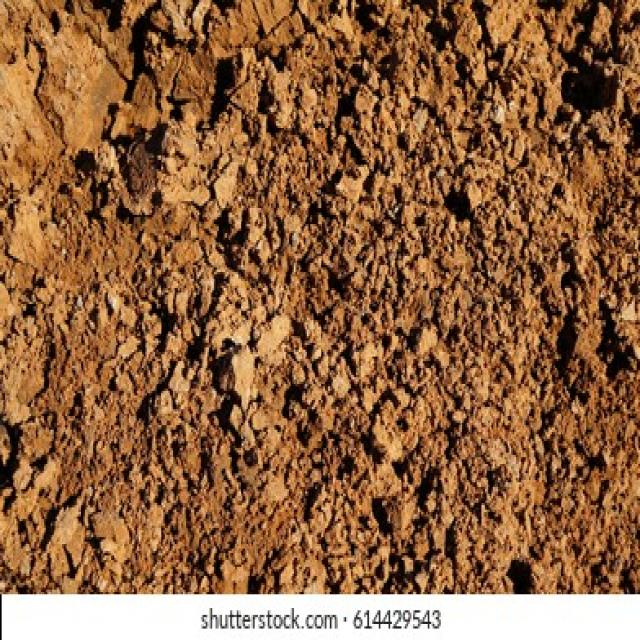Clay Soil: (22, 34, 612, 544)
